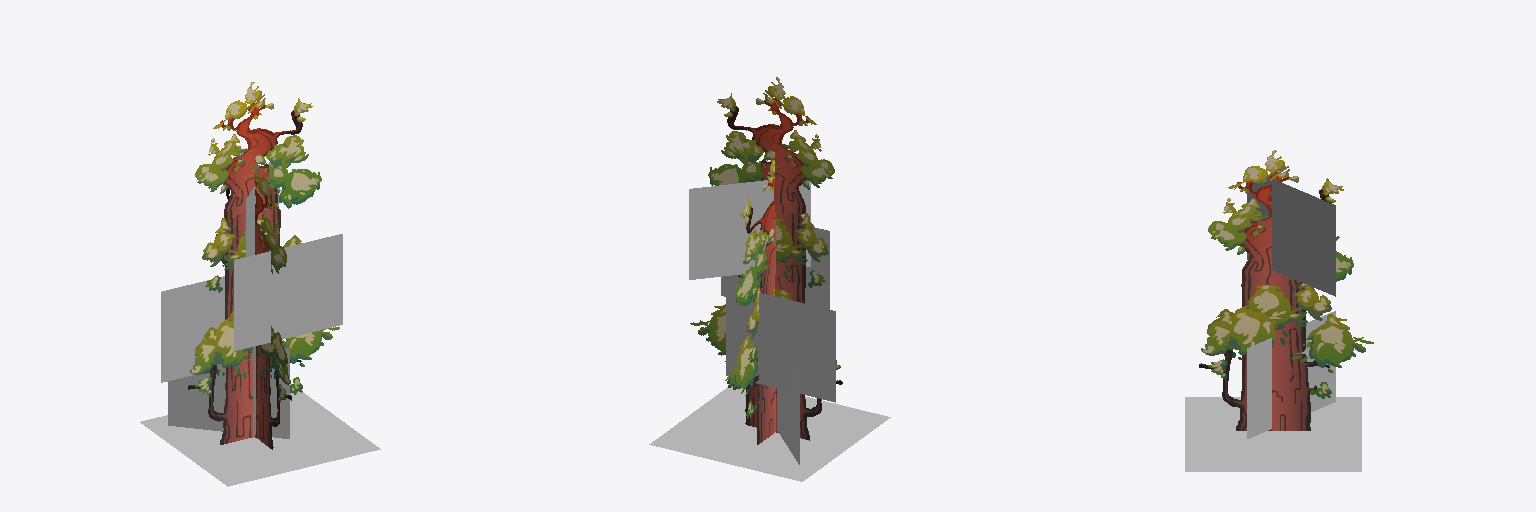
The picture shows the model from 3 angles: view 1: azimuth 30°, elevation 25°; view 2: azimuth 150°, elevation 25°; view 3: azimuth 270°, elevation 25°; orthographic projection.
Visible parts, largest first — view 1: Plane.007_Plane.009, Plane.011_Plane.022, Plane.002, Plane, Plane.008_Plane.010, Plane.010_Plane.021, Plane.006_Plane.007, Plane.005, Plane.003_Plane.008, Plane.004, Plane.009_Plane.020; view 2: Plane.011_Plane.022, Plane.008_Plane.010, Plane.002, Plane.009_Plane.020, Plane.006_Plane.007, Plane.003_Plane.008, Plane.005, Plane, Plane.010_Plane.021, Plane.007_Plane.009, Plane.004, Plane.001; view 3: Plane.011_Plane.022, Plane.005, Plane.009_Plane.020, Plane.003_Plane.008, Plane.004, Plane.010_Plane.021.
Part boxes in pixels (left/top/right/bottom): Plane.007_Plane.009: left=234, top=234, right=342, bottom=350; Plane.011_Plane.022: left=140, top=391, right=380, bottom=486; Plane.002: left=195, top=82, right=321, bottom=218; Plane: left=188, top=317, right=339, bottom=444; Plane.008_Plane.010: left=161, top=276, right=224, bottom=382; Plane.010_Plane.021: left=168, top=346, right=289, bottom=438; Plane.006_Plane.007: left=202, top=205, right=301, bottom=294; Plane.005: left=255, top=326, right=291, bottom=449; Plane.003_Plane.008: left=215, top=158, right=286, bottom=273; Plane.004: left=256, top=332, right=287, bottom=379; Plane.009_Plane.020: left=246, top=162, right=278, bottom=256; Plane.011_Plane.022: left=649, top=386, right=890, bottom=481; Plane.008_Plane.010: left=726, top=285, right=835, bottom=402; Plane.002: left=708, top=77, right=834, bottom=214; Plane.009_Plane.020: left=689, top=180, right=810, bottom=279; Plane.006_Plane.007: left=738, top=213, right=828, bottom=289; Plane.003_Plane.008: left=735, top=152, right=775, bottom=305; Plane.005: left=725, top=336, right=775, bottom=444; Plane: left=690, top=304, right=842, bottom=440; Plane.010_Plane.021: left=777, top=360, right=799, bottom=464; Plane.007_Plane.009: left=721, top=228, right=829, bottom=309; Plane.004: left=746, top=273, right=775, bottom=362; Plane.001: left=740, top=275, right=804, bottom=303; Plane.011_Plane.022: left=1185, top=397, right=1361, bottom=471; Plane.005: left=1199, top=305, right=1373, bottom=430; Plane.009_Plane.020: left=1247, top=177, right=1335, bottom=296; Plane.003_Plane.008: left=1208, top=150, right=1353, bottom=286; Plane.004: left=1207, top=280, right=1331, bottom=359; Plane.010_Plane.021: left=1247, top=311, right=1335, bottom=438.
Bounding box in the file's own units: 2.12 × 4.44 × 2.14.
Materials: 5 (3 with a texture image).